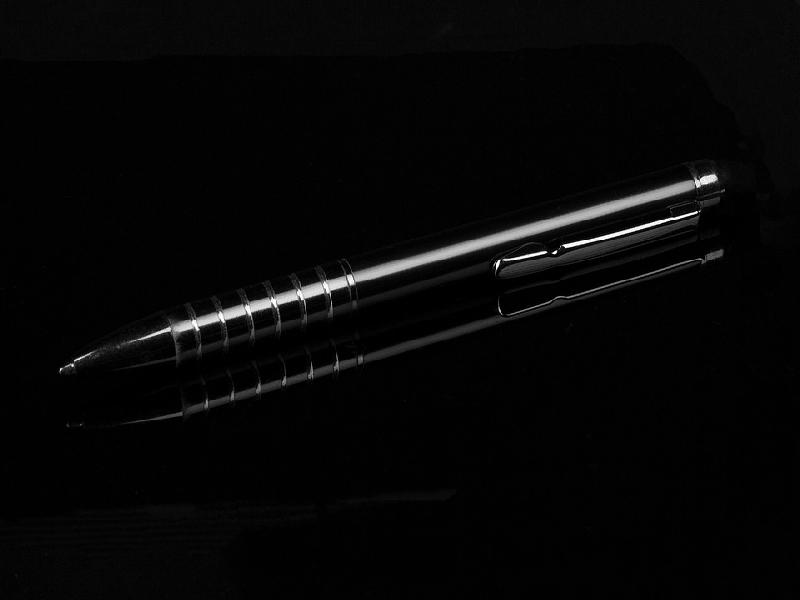pen: (39, 157, 728, 439)
